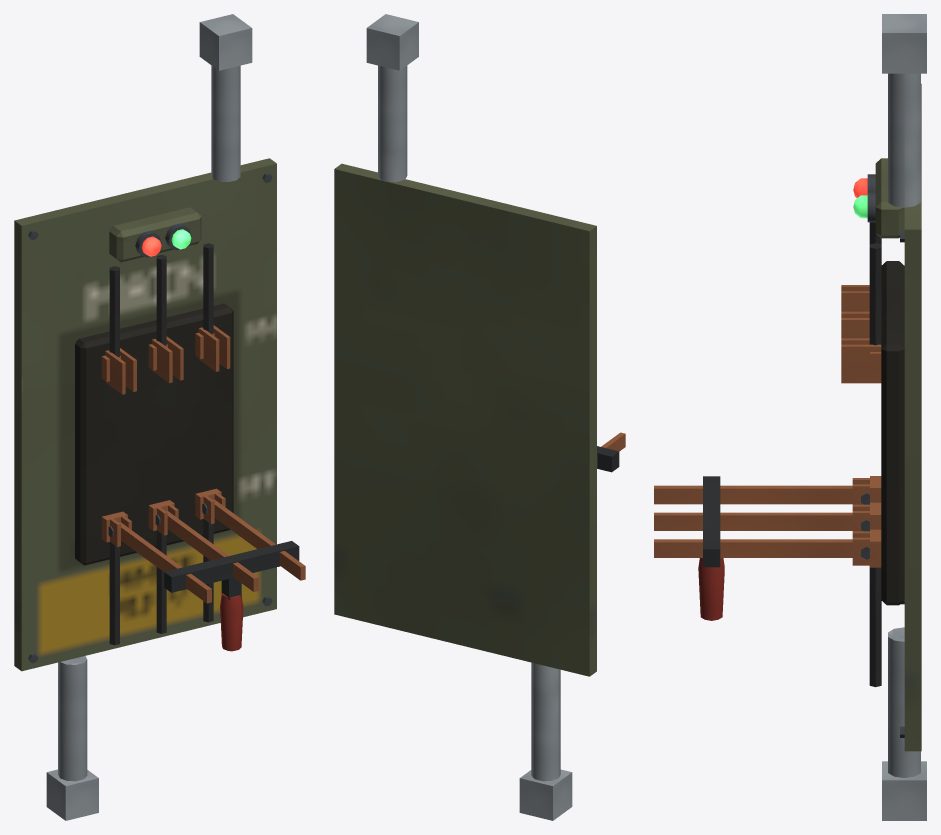
Rendered from breaker_main.fbx.
3 views of the same model, side by side, from view 1: azimuth 30°, elevation 25°; view 2: azimuth 150°, elevation 25°; view 3: azimuth 270°, elevation 25° (orthographic). The views are drawn at different scales.
Parts seen in each view (by area): view 1: breaker_main, breaker_main_arm; view 2: breaker_main, breaker_main_arm; view 3: breaker_main, breaker_main_arm.
Part boxes in pixels (x1,y1,x2,y2): breaker_main: [14, 14, 276, 820]; breaker_main_arm: [108, 499, 305, 651]; breaker_main: [334, 14, 596, 820]; breaker_main_arm: [597, 432, 625, 472]; breaker_main: [841, 14, 926, 820]; breaker_main_arm: [654, 476, 869, 620].
Bounding box in the file's own units: 0.6 × 1.68 × 0.474.
Materials: 1 (1 with a texture image).
